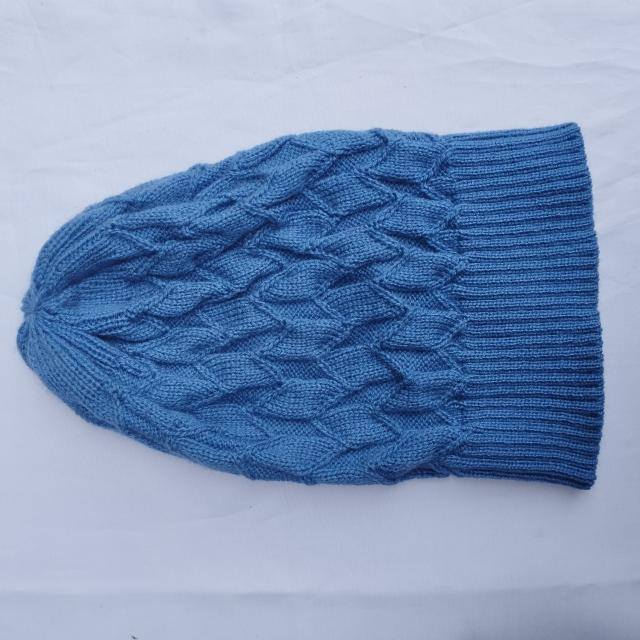Gorro: (16, 122, 606, 490)
